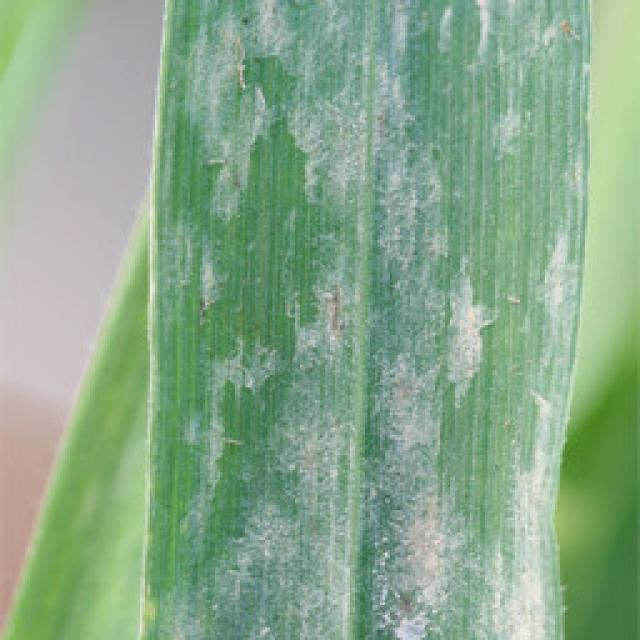wheat-powdery-mildew: (185, 0, 501, 404), (165, 205, 368, 640), (473, 215, 586, 640), (369, 278, 484, 640), (146, 33, 195, 318), (496, 1, 590, 98), (490, 100, 535, 159), (468, 3, 493, 68), (199, 247, 222, 309), (565, 150, 588, 206), (440, 7, 456, 55)
